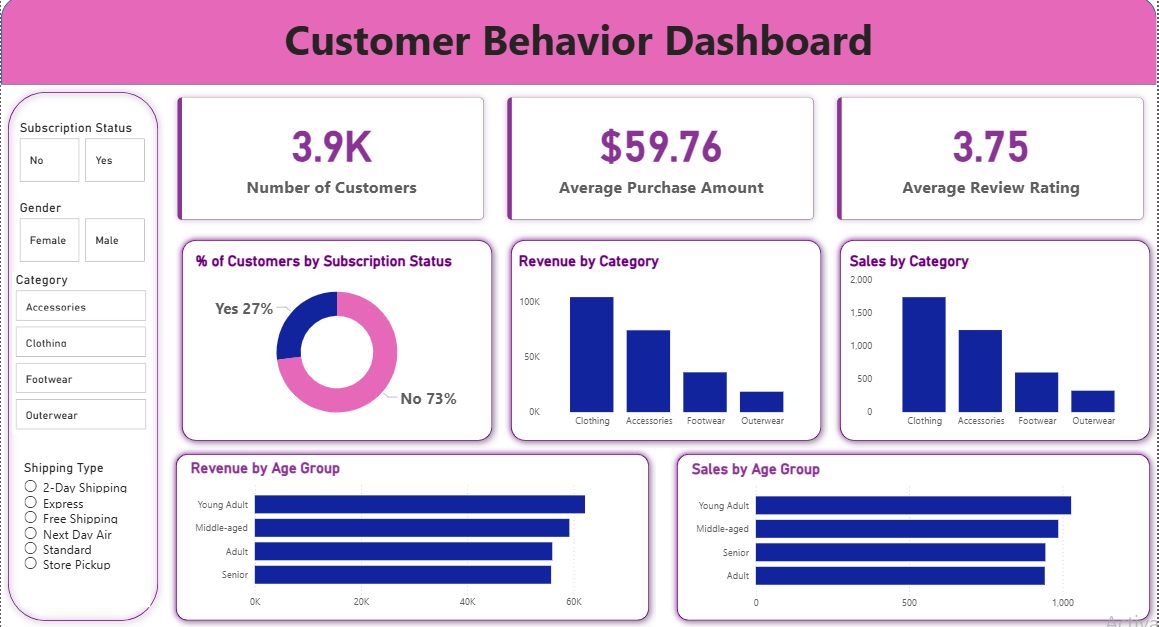

What the dashboard file says about the page in this screenshot:
{"tool":"powerbi","page":{"name":"Page 1","canvas":[1500,820],"ordinal":0},"visuals":[{"type":"cardVisual","fields":{"Data":["public customer.Number of Customers","public customer.Average Purchase Amount","public customer.Average Review Rating"]},"box":[212.9,115.3,1286.5,191.6],"z":2000},{"type":"shape","box":[218.3,585.6,631.7,234.2],"z":2500,"group":"g1"},{"type":"shape","box":[0,0,1499.4,115.3],"z":3000},{"type":"textbox","box":[0,12.4,1499.4,102.9],"z":4000},{"type":"shape","box":[225.4,307,420.5,278.6],"z":5000},{"type":"donutChart","title":"% of Customers by Subscription Status","fields":{"Category":["public customer.subscription_status"],"Y":["CountNonNull(public customer.customer_id)"]},"box":[248.4,331.8,376.2,237.8],"z":6000},{"type":"shape","box":[1078.9,307,420.5,278.6],"z":7000},{"type":"shape","box":[652.1,307,420.5,278.6],"z":8000},{"type":"clusteredColumnChart","title":"Revenue by Category","fields":{"Y":["Sum(public customer.purchase_amount)"],"Category":["public customer.category"]},"box":[667.2,331.8,385.1,237.8],"z":9000},{"type":"clusteredColumnChart","title":"Sales by Category","fields":{"Y":["CountNonNull(public customer.customer_id)"],"Category":["public customer.category"]},"box":[1096.6,331.8,385.1,237.8],"z":10000},{"type":"shape","box":[0,115.3,212.9,704.5],"z":11000},{"type":"advancedSlicerVisual","fields":{"Values":["public customer.subscription_status"]},"box":[19.5,161.5,173.9,85.2],"z":12000},{"type":"advancedSlicerVisual","fields":{"Values":["public customer.gender"]},"box":[19.5,264.4,173.9,85.2],"z":13000},{"type":"advancedSlicerVisual","fields":{"Values":["public customer.category"]},"box":[14.3,358.1,179.1,211.5],"z":14000},{"type":"listSlicer","fields":{"Values":["public customer.shipping_type"]},"box":[24.7,602,168.7,190.7],"z":15000},{"type":"shape","box":[867.7,585.6,631.7,234.2],"z":16000},{"type":"clusteredBarChart","title":"Sales by Age Group","fields":{"Y":["CountNonNull(public customer.customer_id)"],"Category":["public customer.age_group"]},"box":[890.8,601.5,585.6,204.1],"z":17000},{"type":"clusteredBarChart","title":"Revenue by Age Group","fields":{"Y":["Sum(public customer.purchase_amount)"],"Category":["public customer.age_group"]},"box":[241.4,601.6,585.6,204.1],"z":17500,"group":"g1"},{"type":"group","id":"g1","title":"Group 1","box":[218.3,585.6,631.7,234.2],"z":17501}]}

Visuals, with their boxes in screenshot pixels (x1, y1, x2, y2), scaled from the page's 1500x820 canvas onto the 1159x627 screenshot:
cardVisual - public customer.Number of Customers x public customer.Average Purchase Amount: rect(165, 88, 1158, 235)
shape: rect(169, 448, 657, 626)
shape: rect(0, 0, 1158, 88)
textbox: rect(0, 9, 1158, 88)
shape: rect(174, 235, 499, 448)
"% of Customers by Subscription Status" donutChart: rect(192, 254, 483, 436)
shape: rect(834, 235, 1158, 448)
shape: rect(504, 235, 829, 448)
"Revenue by Category" clusteredColumnChart: rect(516, 254, 813, 436)
"Sales by Category" clusteredColumnChart: rect(847, 254, 1145, 436)
shape: rect(0, 88, 165, 626)
advancedSlicerVisual - public customer.subscription_status: rect(15, 123, 149, 189)
advancedSlicerVisual - public customer.gender: rect(15, 202, 149, 267)
advancedSlicerVisual - public customer.category: rect(11, 274, 149, 436)
listSlicer - public customer.shipping_type: rect(19, 460, 149, 606)
shape: rect(670, 448, 1158, 626)
"Sales by Age Group" clusteredBarChart: rect(688, 460, 1141, 616)
"Revenue by Age Group" clusteredBarChart: rect(187, 460, 639, 616)
"Group 1" group: rect(169, 448, 657, 626)
